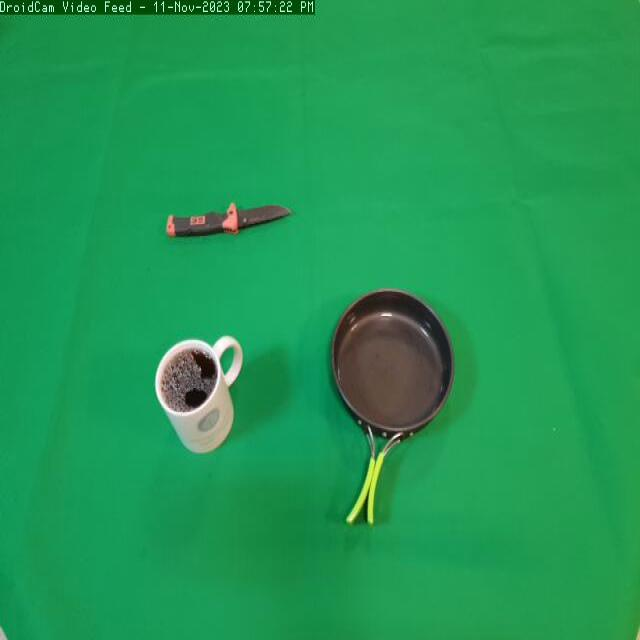fullcup: (154, 331, 245, 456)
knife: (158, 189, 299, 257)
pan: (330, 283, 471, 538)
